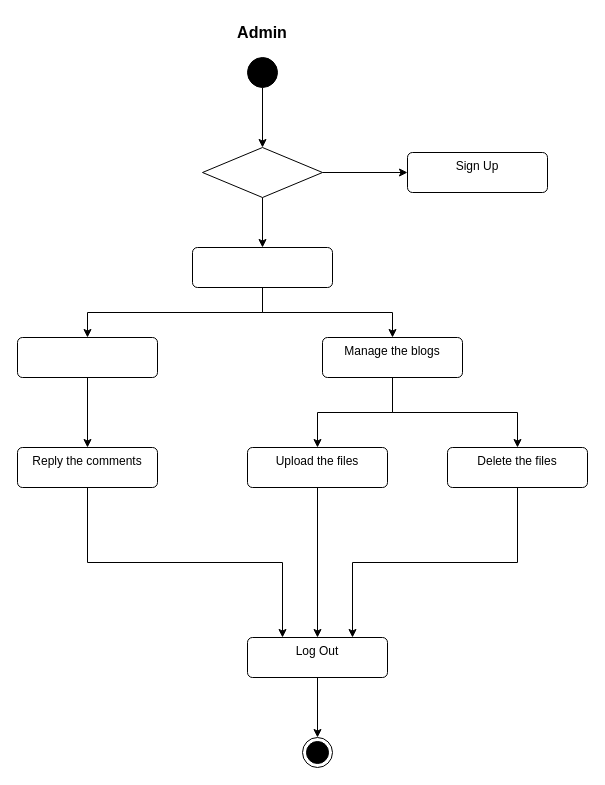
This 605x785 diagram has some shape labels left out. The box of each missing label's shape, as (x1, y1, x2, y2) in pixels:
Registeration: (202, 146, 322, 198)
Sign In: (192, 246, 332, 288)
View the blogs: (16, 336, 158, 378)
